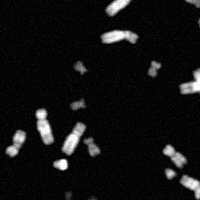chromosome: (62, 122, 85, 155), (35, 108, 54, 144), (105, 0, 146, 15), (101, 29, 138, 44), (163, 144, 187, 167), (5, 130, 25, 157), (179, 174, 200, 199), (180, 73, 200, 94), (83, 138, 100, 156), (147, 61, 160, 77), (73, 60, 87, 74), (194, 68, 200, 98), (70, 99, 85, 111), (53, 159, 68, 170), (163, 168, 176, 180), (184, 0, 200, 8), (81, 198, 98, 200), (199, 4, 200, 29)
